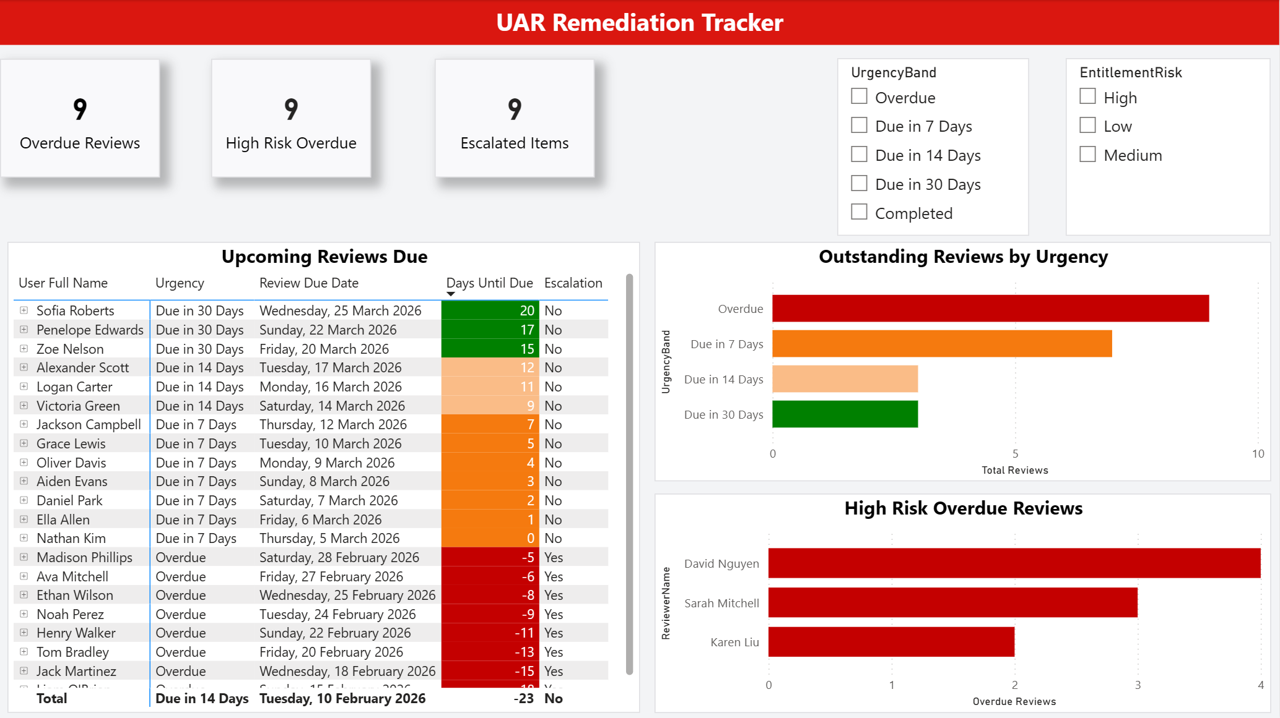

What the dashboard file says about the page in this screenshot:
{"tool":"powerbi","page":{"name":" Remediation Tracker","canvas":[1280,720],"ordinal":1},"visuals":[{"type":"card","fields":{"Values":["IAM_UAR_Data.Overdue Reviews"]},"box":[0,59,160,119],"z":0},{"type":"card","fields":{"Values":["IAM_UAR_Data.Escalated Items"]},"box":[435,59,160,118.8],"z":1000},{"type":"card","fields":{"Values":["IAM_UAR_Data.High Risk Overdue"]},"box":[211.2,59,160,119],"z":2000},{"type":"pivotTable","title":"Upcoming Reviews Due","fields":{"Rows":["IAM_UAR_Data.UserFullName","IAM_UAR_Data.Department","IAM_UAR_Data.ReviewerName","IAM_UAR_Data.Entitlement","IAM_UAR_Data.EntitlementRisk"],"Values":["Min(IAM_UAR_Data.UrgencyBand)","Min(IAM_UAR_Data.ReviewDueDate)","Min(IAM_UAR_Data.DaysUntilDue)","Min(IAM_UAR_Data.EscalationFlag)"]},"box":[7.4,242.3,632.6,472.2],"z":3000},{"type":"barChart","title":"Outstanding Reviews by Urgency","fields":{"Category":["IAM_UAR_Data.UrgencyBand"],"Y":["IAM_UAR_Data.Total Reviews"]},"box":[654.9,242.3,616.5,240.4],"z":4000},{"type":"clusteredBarChart","title":"High Risk Overdue Reviews","fields":{"Category":["IAM_UAR_Data.ReviewerName"],"Y":["IAM_UAR_Data.Overdue Reviews"]},"box":[654.9,494.5,616.5,220],"z":5000},{"type":"slicer","fields":{"Values":["IAM_UAR_Data.UrgencyBand"]},"box":[837.7,58.2,192.1,178.5],"z":6000},{"type":"slicer","fields":{"Values":["IAM_UAR_Data.EntitlementRisk"]},"box":[1066.4,58.2,205.1,178.5],"z":7000},{"type":"textbox","box":[0,0,1280,45],"z":8000}]}

Visuals, with their boxes in screenshot pixels (x1, y1, x2, y2), scaled from the page's 1280x720 canvas onto the 1280x718 screenshot:
card - IAM_UAR_Data.Overdue Reviews: (x1=0, y1=59, x2=160, y2=178)
card - IAM_UAR_Data.Escalated Items: (x1=435, y1=59, x2=595, y2=177)
card - IAM_UAR_Data.High Risk Overdue: (x1=211, y1=59, x2=371, y2=178)
"Upcoming Reviews Due" pivotTable: (x1=7, y1=242, x2=640, y2=713)
"Outstanding Reviews by Urgency" barChart: (x1=655, y1=242, x2=1271, y2=481)
"High Risk Overdue Reviews" clusteredBarChart: (x1=655, y1=493, x2=1271, y2=713)
slicer - IAM_UAR_Data.UrgencyBand: (x1=838, y1=58, x2=1030, y2=236)
slicer - IAM_UAR_Data.EntitlementRisk: (x1=1066, y1=58, x2=1272, y2=236)
textbox: (x1=0, y1=0, x2=1279, y2=45)
